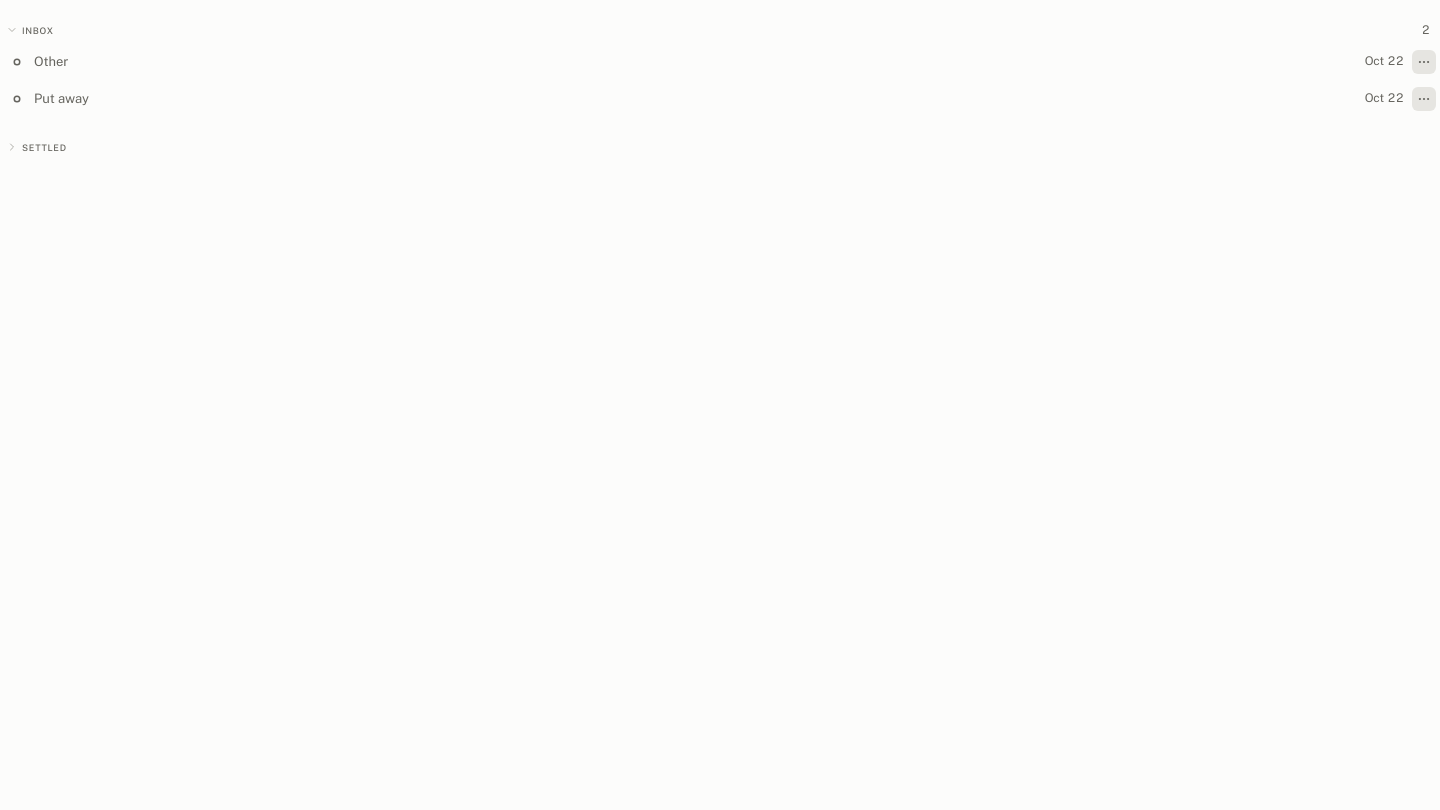
Test: undo settle, snooze and archive › ⌘Z reopens a settled task through /unsettle inside the toast window
Step 1. Click the button named "Actions for Put away" → (1424, 99), box 1412,87 -> 1436,111
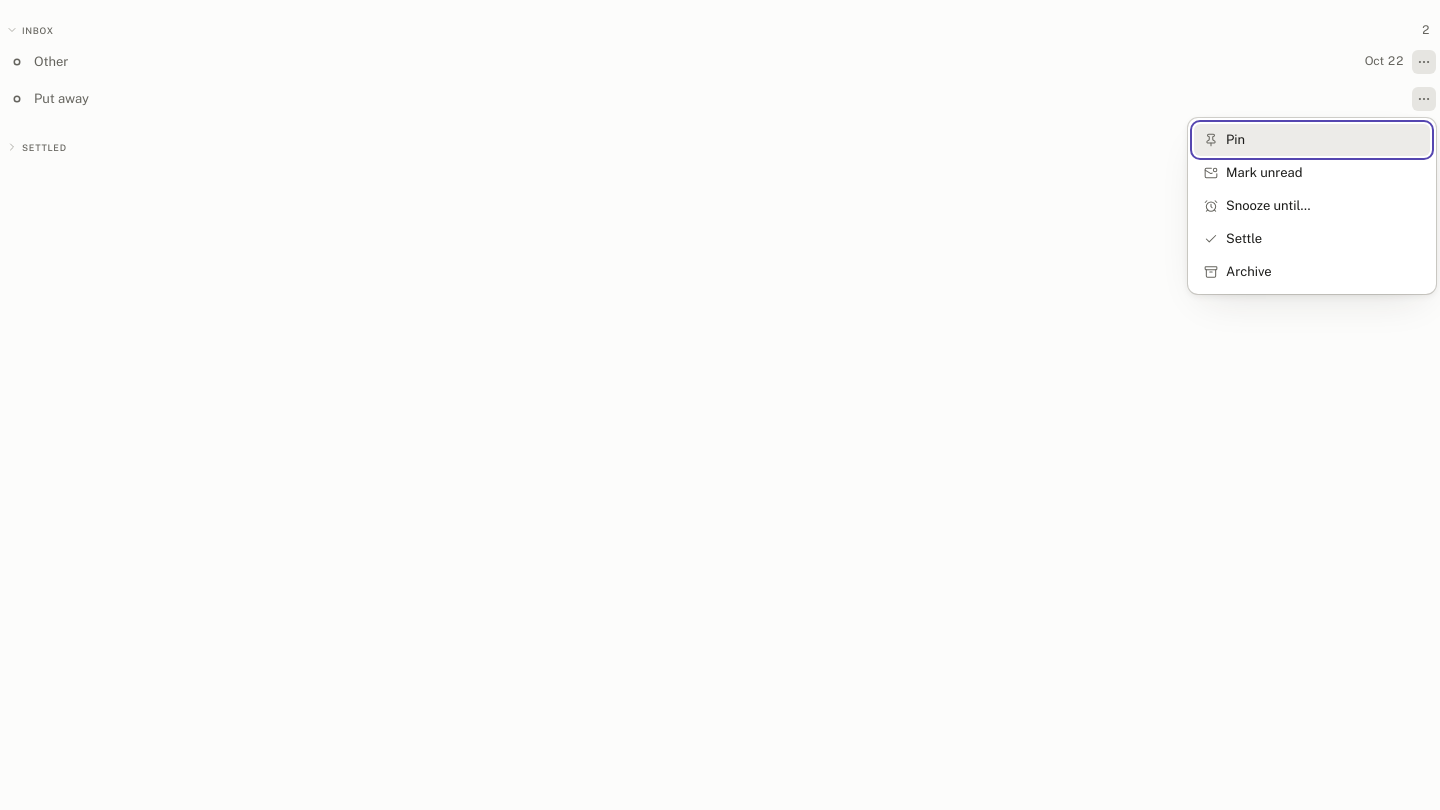
Step 2. Click the button "Settle" → (1312, 239), box 1194,223 -> 1430,255
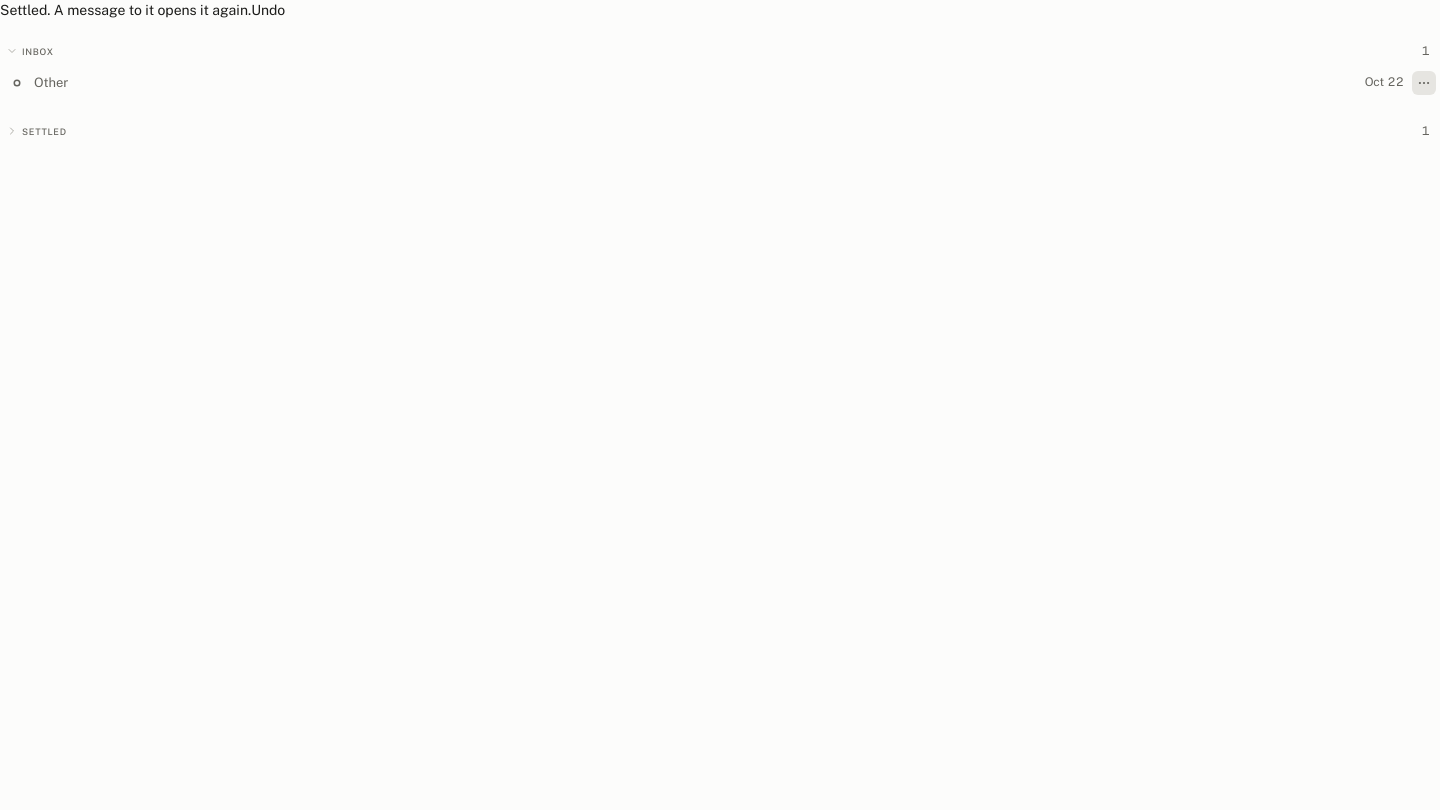
Expected: the text "Settled. A message to it opens it again. Undo" is shown, 0,0 -> 285,21
Step 3. Press z
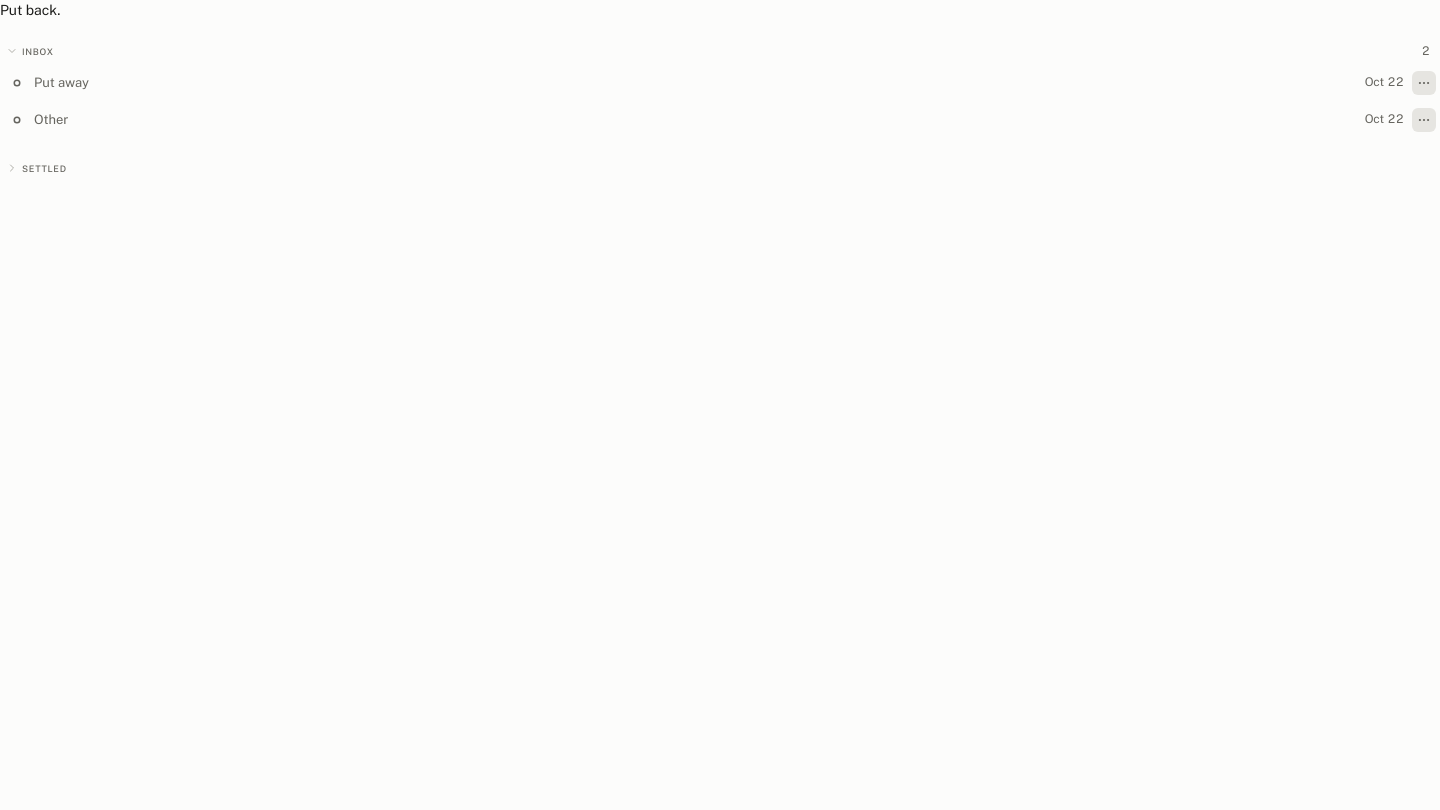
Expected: the text "Put away" is shown, 34,74 -> 89,90
Expected: the text "Put back." is shown, 0,2 -> 60,18
